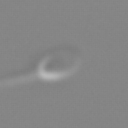normal: (1, 68, 37, 88)
